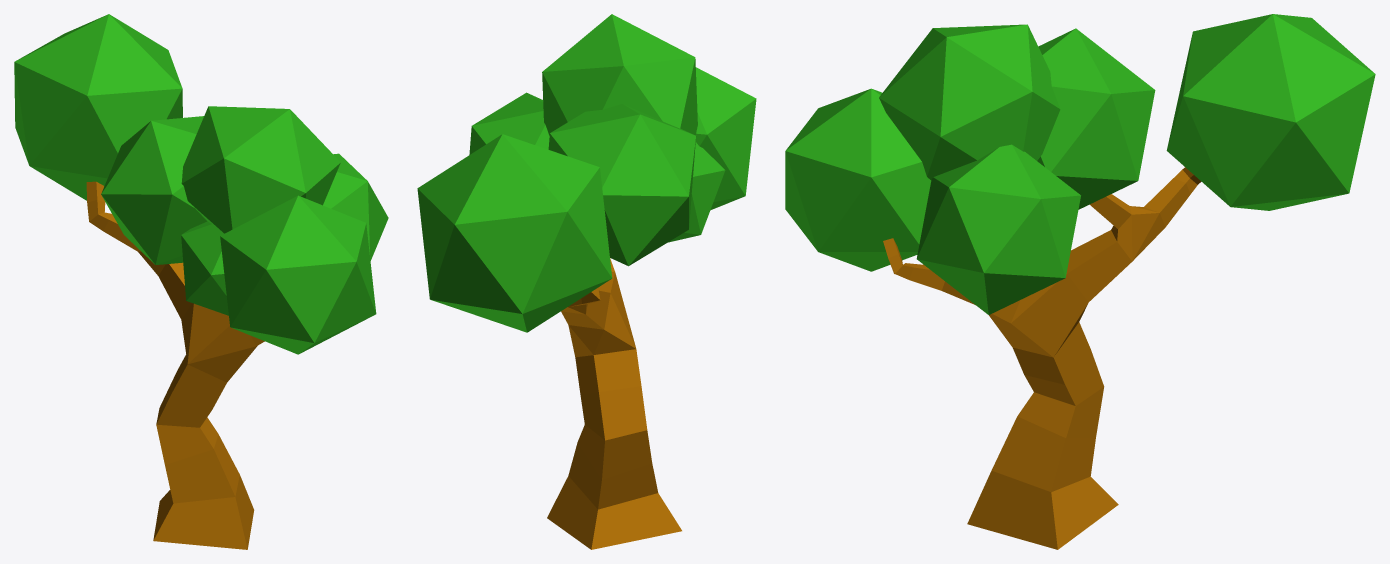
Rendered from Tree_Test.glb.
3 views of the same model, side by side, from view 1: azimuth 30°, elevation 25°; view 2: azimuth 150°, elevation 25°; view 3: azimuth 270°, elevation 25° (orthographic). The views are drawn at different scales.
Parts seen in each view (by area): view 1: Icosphere.002, Cube, Icosphere, Icosphere.004, Icosphere.003, Icosphere.005, Icosphere.001; view 2: Icosphere.002, Cube, Icosphere.003, Icosphere.004, Icosphere, Icosphere.001, Icosphere.005; view 3: Icosphere.002, Cube, Icosphere.004, Icosphere.001, Icosphere, Icosphere.003.
Boxes of the visible parts, x1=… form: Icosphere.002: x1=14, y1=14, x2=182, y2=200; Cube: x1=86, y1=181, x2=264, y2=549; Icosphere: x1=220, y1=195, x2=376, y2=354; Icosphere.004: x1=181, y1=106, x2=340, y2=233; Icosphere.003: x1=101, y1=116, x2=207, y2=264; Icosphere.005: x1=181, y1=221, x2=228, y2=315; Icosphere.001: x1=323, y1=153, x2=388, y2=260; Icosphere.002: x1=417, y1=134, x2=612, y2=332; Cube: x1=547, y1=258, x2=681, y2=549; Icosphere.003: x1=548, y1=104, x2=695, y2=266; Icosphere.004: x1=542, y1=14, x2=697, y2=135; Icosphere: x1=695, y1=67, x2=756, y2=210; Icosphere.001: x1=469, y1=92, x2=549, y2=154; Icosphere.005: x1=668, y1=142, x2=725, y2=242; Icosphere.002: x1=1166, y1=14, x2=1375, y2=210; Cube: x1=883, y1=167, x2=1201, y2=549; Icosphere.004: x1=879, y1=24, x2=1060, y2=179; Icosphere.001: x1=916, y1=144, x2=1080, y2=314; Icosphere: x1=785, y1=88, x2=931, y2=271; Icosphere.003: x1=1037, y1=28, x2=1155, y2=209.
Size of the model in its own units: 3.23 by 5.53 by 5.84.
